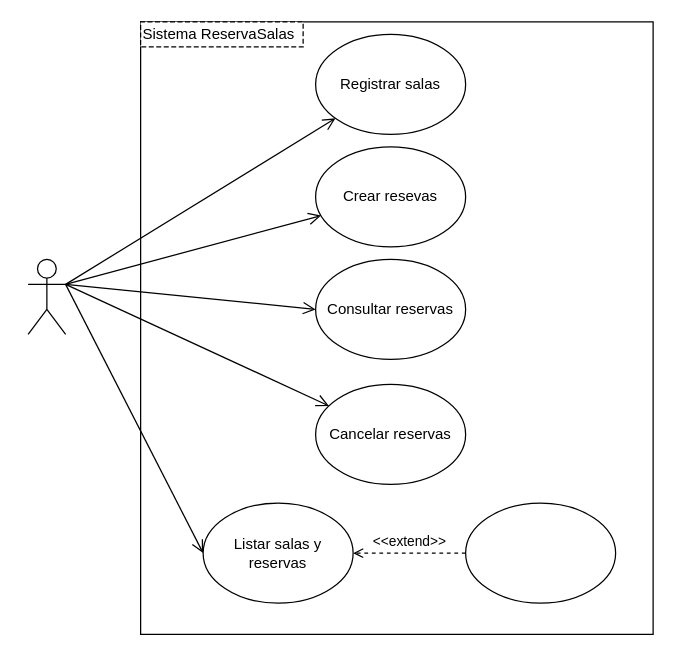
Image size: 675x656. Some labels were removed from this diagram. Each missing label, with the centre of its shape:
"Generar reporte general" belongs at (540,552).
"Usuario" belongs at (46,296).
